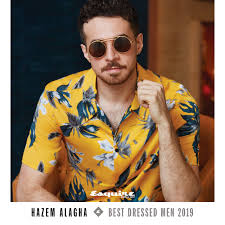middle_eastern_male: (84, 14, 141, 86)
